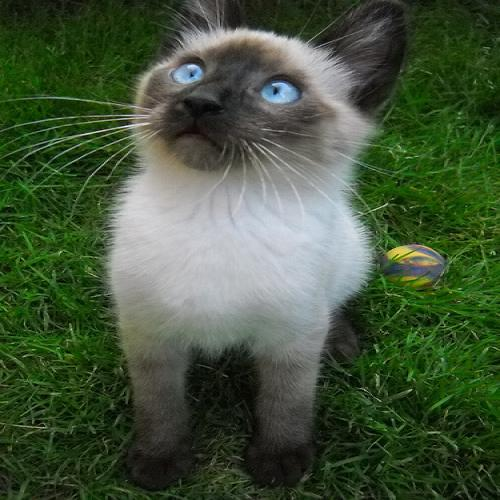siamese: (113, 1, 416, 185)
